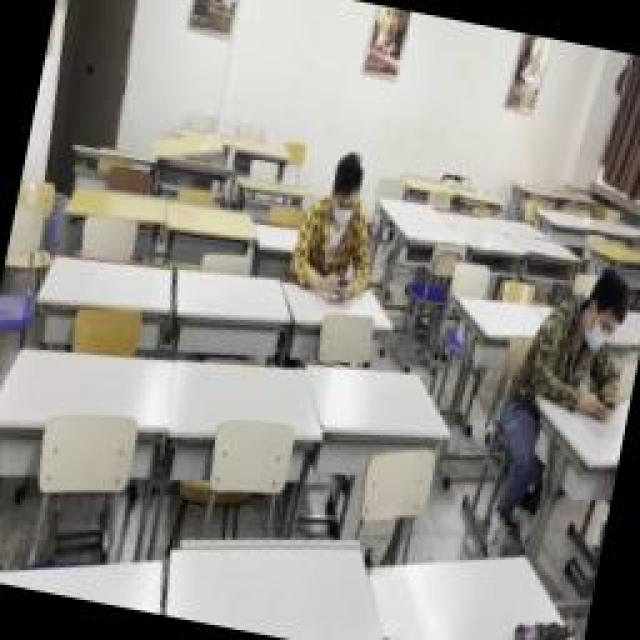phone: (537, 260, 640, 417), (288, 148, 390, 302)
